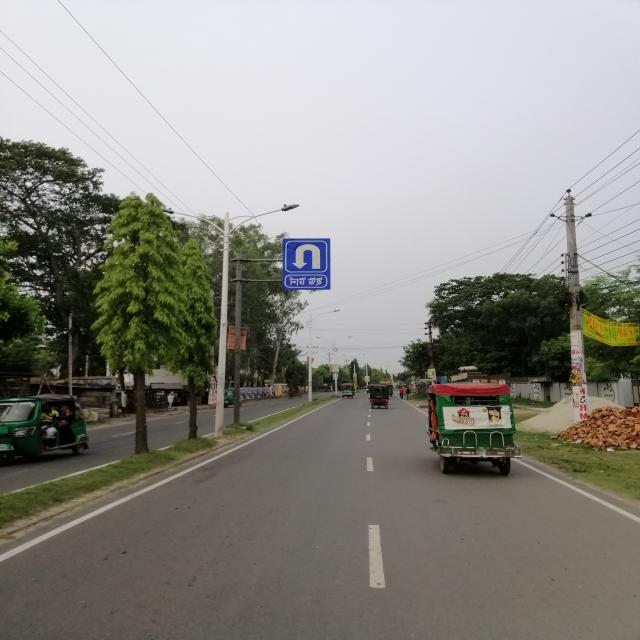CNG: (1, 385, 88, 471)
Easybike: (420, 382, 523, 476)
